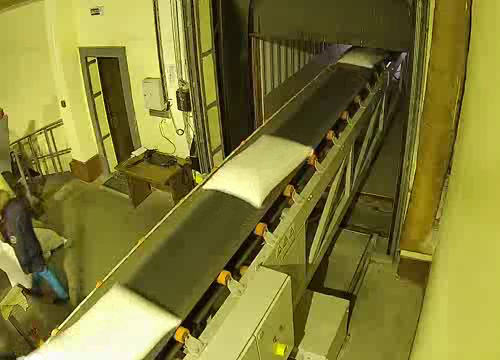bag: (17, 275, 183, 360), (196, 126, 317, 211), (334, 44, 396, 72)
